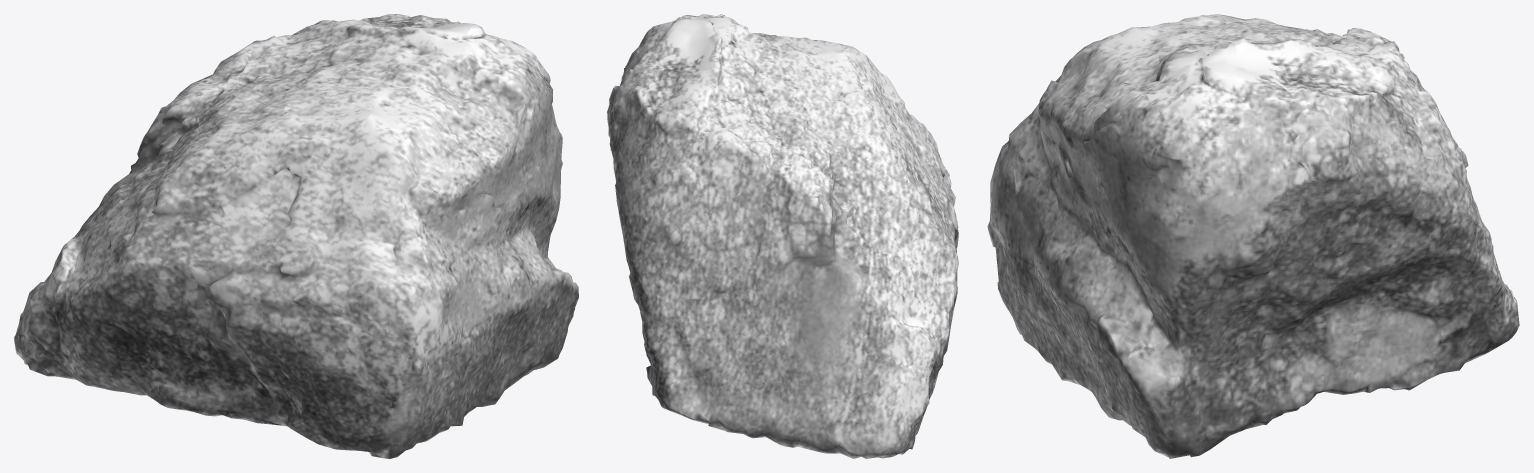
File: boulder-fieldstone-dome-lod0.glb
3 views of the same model, side by side, from view 1: azimuth 30°, elevation 25°; view 2: azimuth 150°, elevation 25°; view 3: azimuth 270°, elevation 25° (orthographic). The views are drawn at different scales.
Visible parts, largest first — view 1: boulder_04; view 2: boulder_04; view 3: boulder_04.
Boxes of the visible parts, x1,y1,x2,y2 form: boulder_04: (14,14,578,458); boulder_04: (607,14,958,458); boulder_04: (987,14,1519,458).
Size of the model in its own units: 2.52 by 1.9 by 2.49.
1 material, 1 textured.
